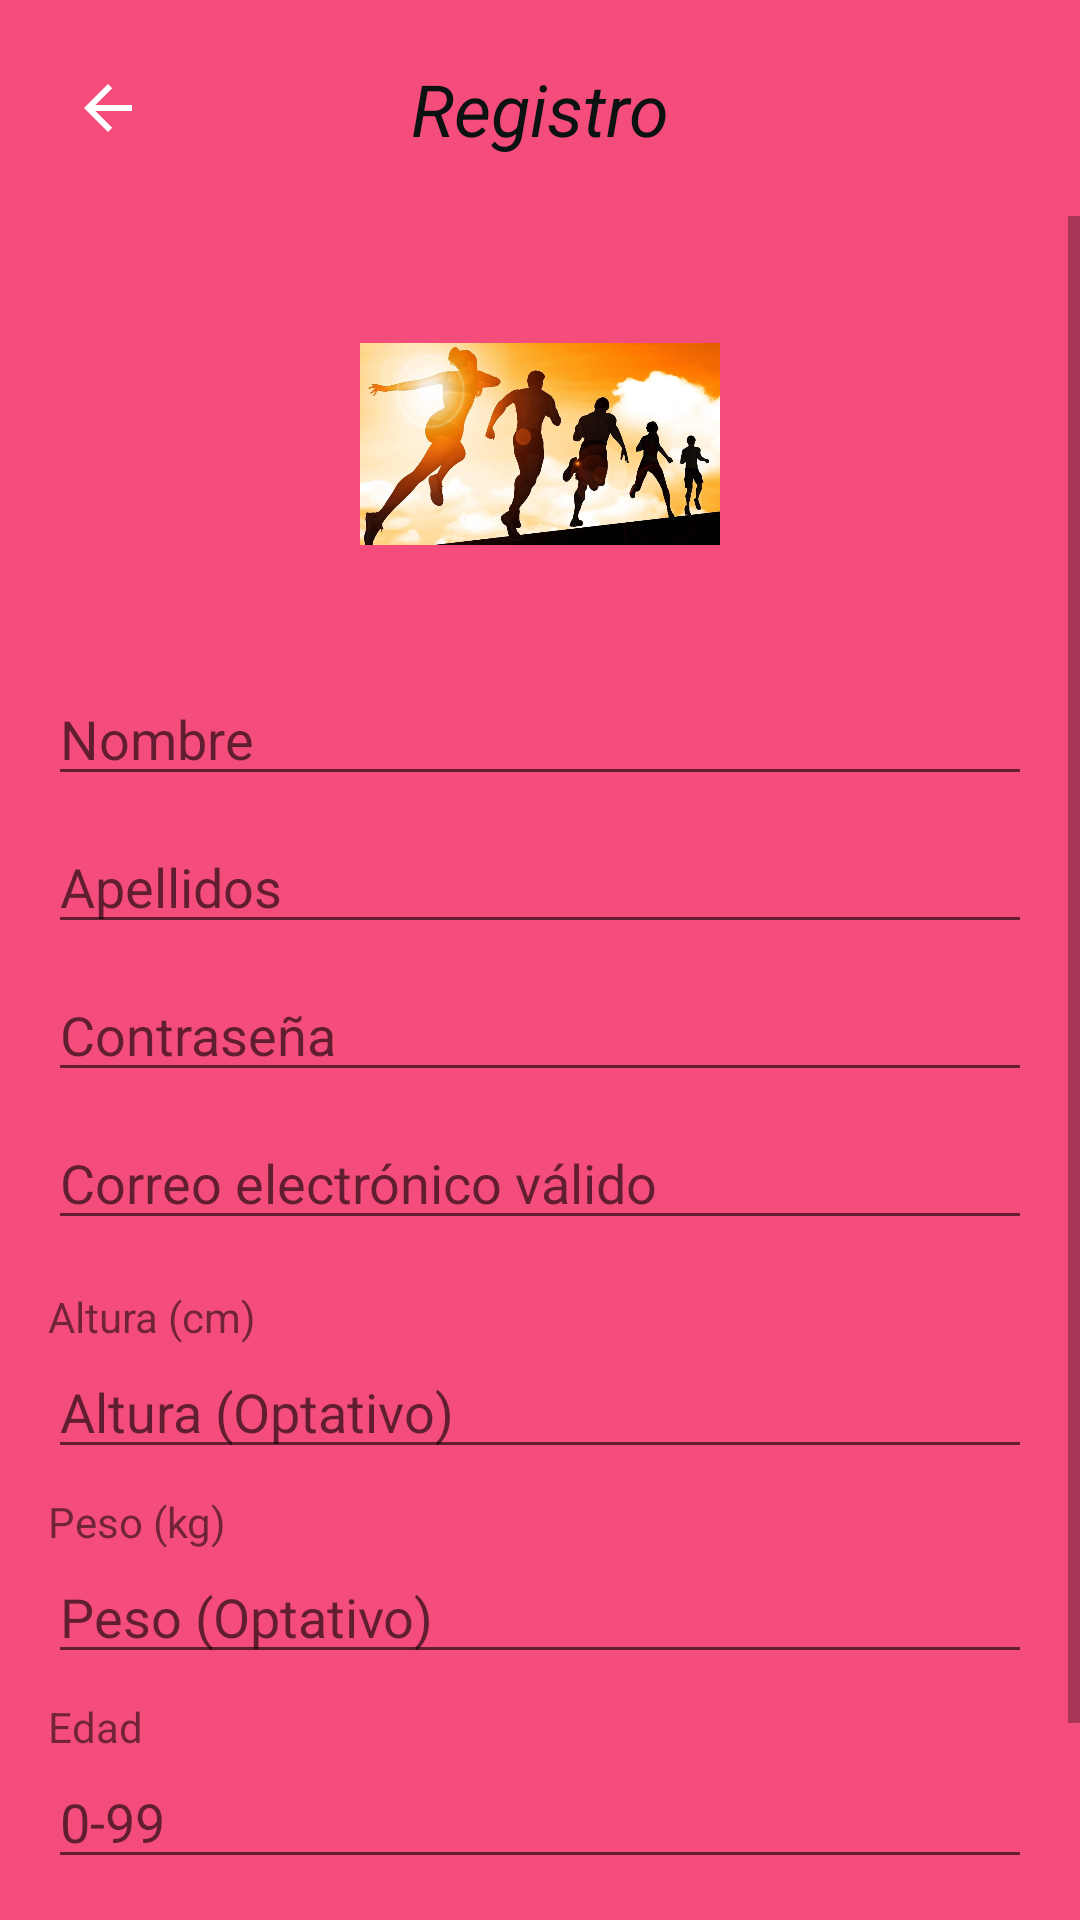

Locate icon controls on the screen. Image size 1080*1920, boxes as {"left": x1, "top": y1, "right": x2, "bottom": y2}.
Volver atrás: {"left": 84, "top": 84, "right": 132, "bottom": 132}
